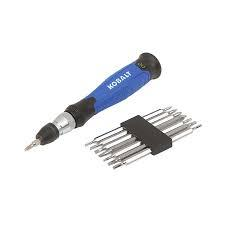screwdriver: (34, 49, 160, 144)
